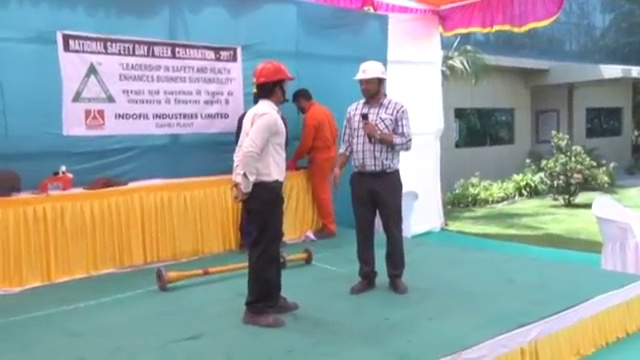helmet: (252, 60, 297, 84), (351, 57, 389, 81)
helmet_off: (291, 84, 315, 115)
helmet_on: (251, 57, 296, 106), (350, 55, 391, 107)
person: (332, 55, 414, 297), (232, 58, 300, 328), (290, 82, 338, 240)
